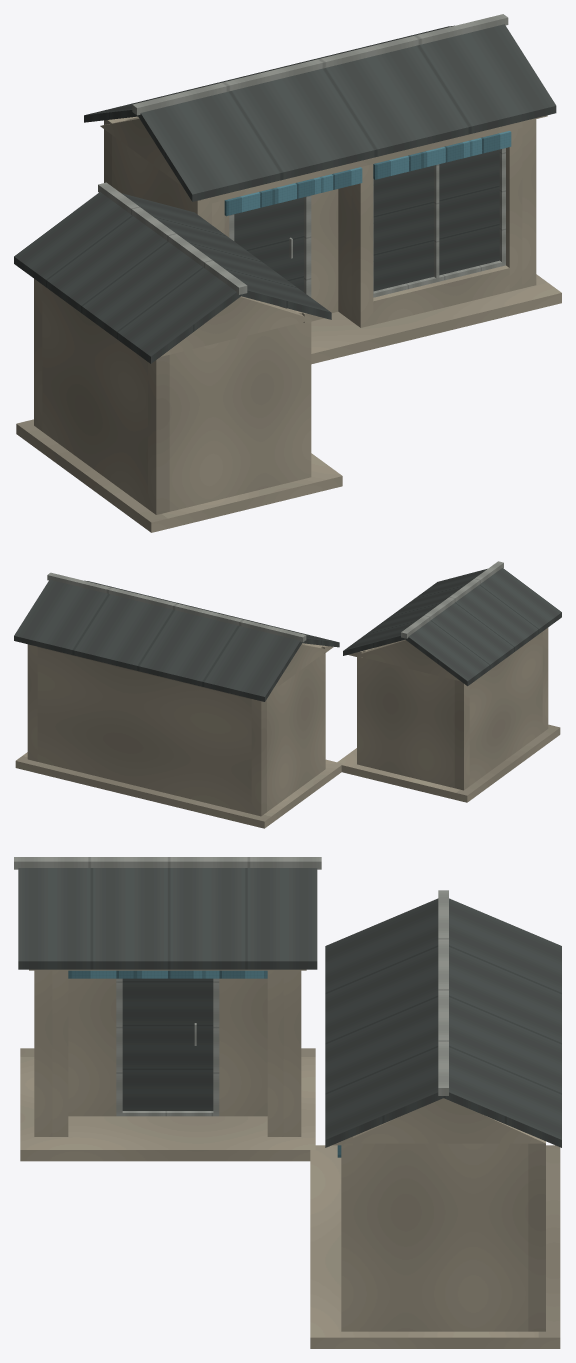
File: hong-kong.glb
3 views of the same model, one above another, from view 1: azimuth 30°, elevation 25°; view 2: azimuth 150°, elevation 25°; view 3: azimuth 270°, elevation 25° (orthographic). The views are drawn at different scales.
Parts seen in each view (by area): view 1: hong-kong; view 2: hong-kong; view 3: hong-kong.
Part boxes in pixels (box(x1,y1,x2,y2)): hong-kong: box(14, 14, 561, 532); hong-kong: box(14, 561, 561, 828); hong-kong: box(14, 857, 561, 1348).
Size of the model in its own units: 7.71 by 3.24 by 6.1.
Materials: 1 (1 with a texture image).
